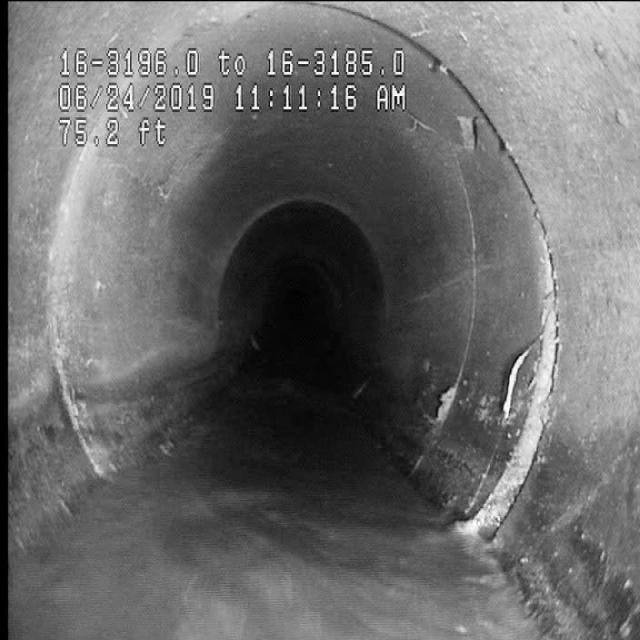Crack: (428, 120, 490, 393), (484, 316, 554, 502)
